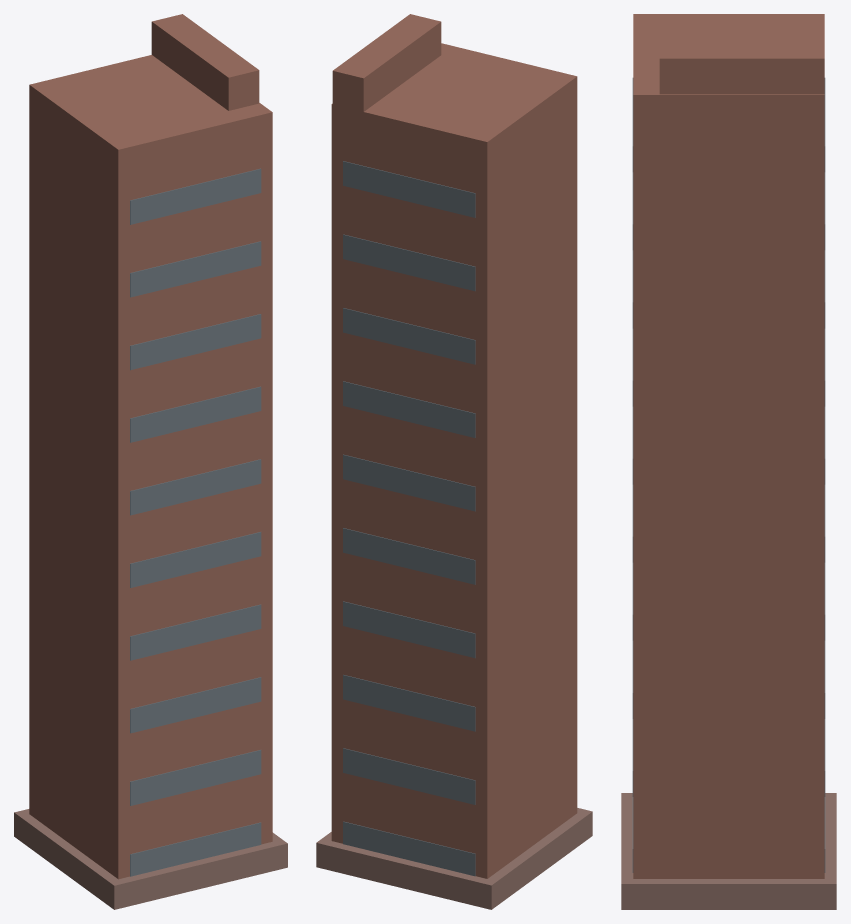
File: ew-chimney.zfix-v8.lod2.glb
3 views of the same model, side by side, from view 1: azimuth 30°, elevation 25°; view 2: azimuth 150°, elevation 25°; view 3: azimuth 270°, elevation 25° (orthographic). The views are drawn at different scales.
Parts seen in each view (by area): view 1: ew-chimney; view 2: ew-chimney; view 3: ew-chimney.
Part boxes in pixels (x1,y1,x2,y2): ew-chimney: (14,14,287,909); ew-chimney: (316,14,592,909); ew-chimney: (621,14,836,909).
Size of the model in its own units: 9 by 39.02 by 9.
